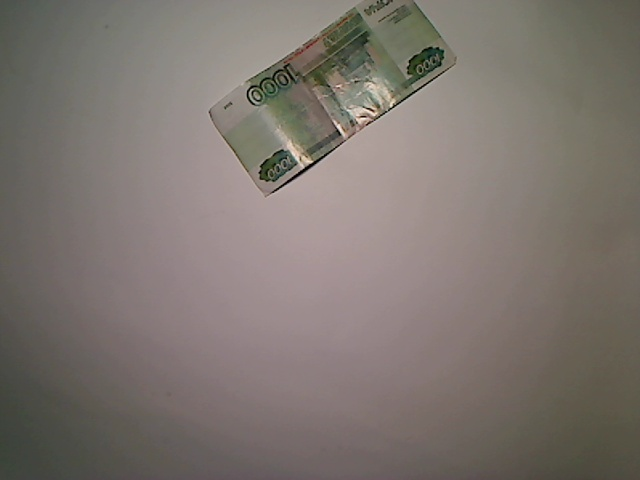banknotes: (204, 1, 462, 199)
